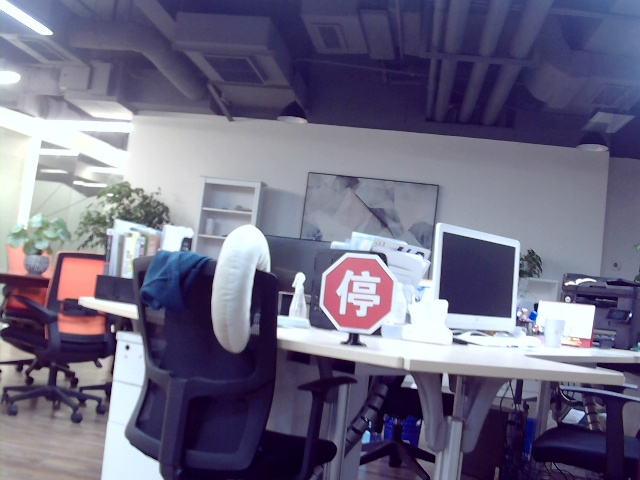stop: (333, 269, 381, 317)
